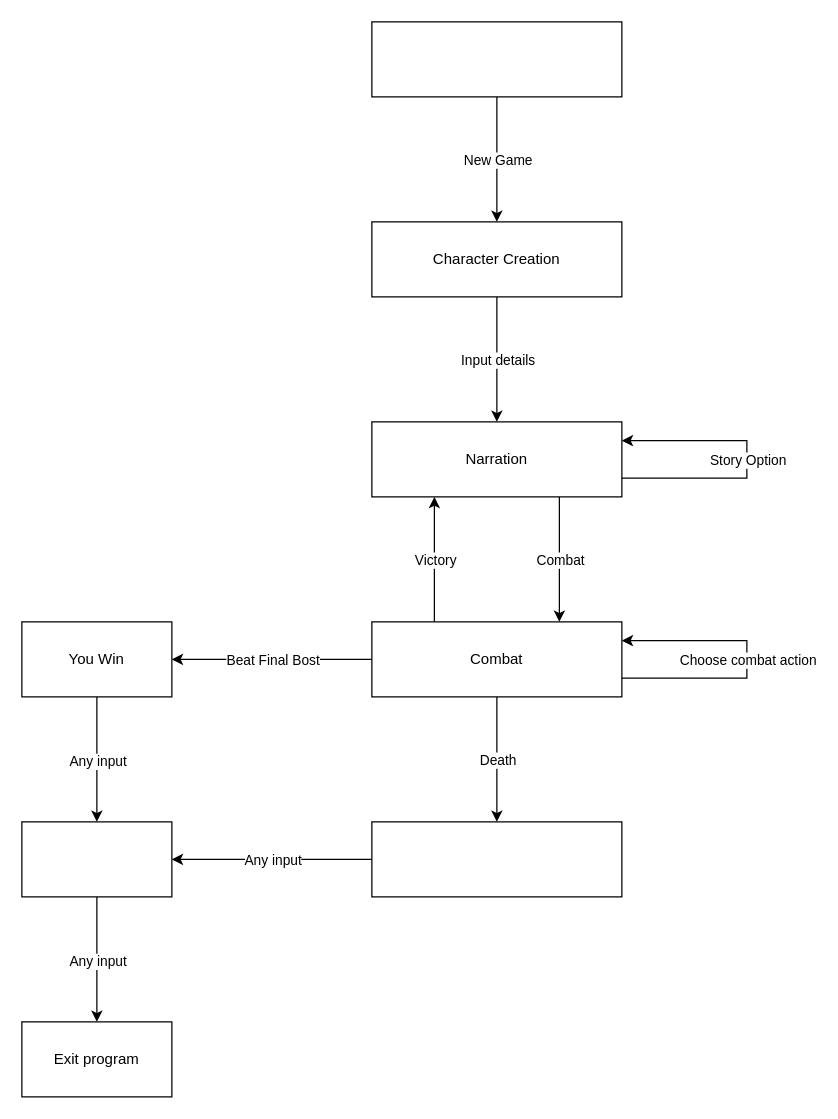
This 838x1119 diagram has some shape labels left out. Each missing label, with the box of its shape:
Credits: (21, 821, 172, 897)
Game Over: (371, 821, 622, 897)
Start: (371, 21, 622, 97)
